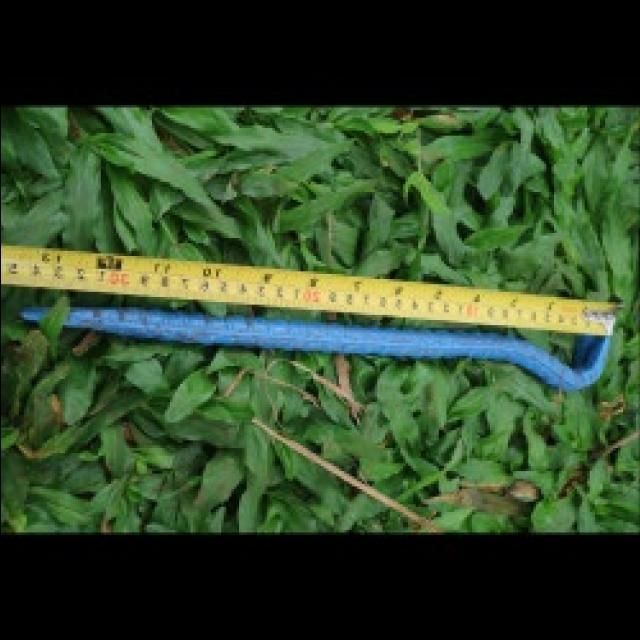Linggis: (24, 300, 616, 391)
